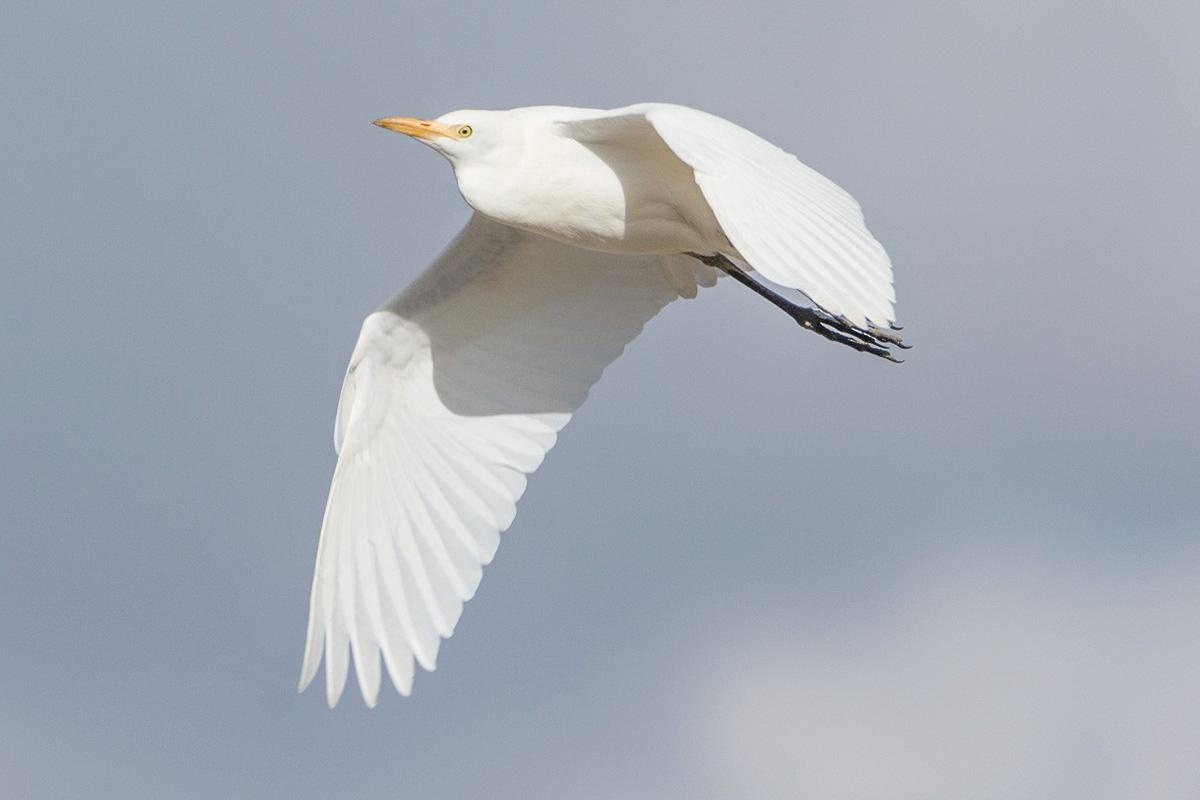egret: (312, 79, 924, 711)
